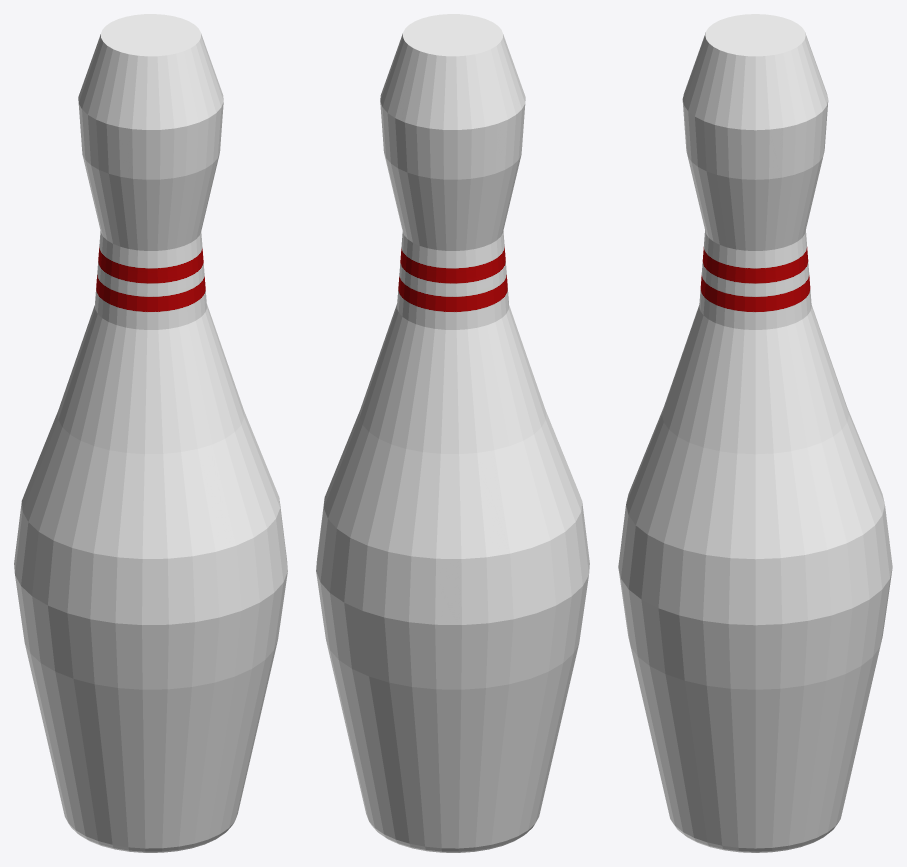
File: pin3.fbx
3 views of the same model, side by side, from view 1: azimuth 30°, elevation 25°; view 2: azimuth 150°, elevation 25°; view 3: azimuth 270°, elevation 25° (orthographic).
Visible parts, largest first — view 1: Cylinder.009; view 2: Cylinder.009; view 3: Cylinder.009.
Part boxes in pixels (<box>): Cylinder.009: <box>14,14,287,852</box>; Cylinder.009: <box>316,14,589,852</box>; Cylinder.009: <box>618,14,892,852</box>.
Bounding box in the file's own units: 316 × 316 × 994.
